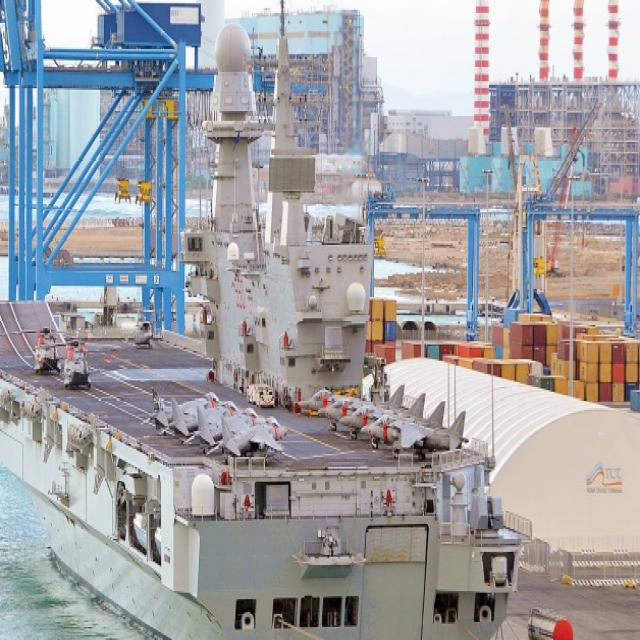Portanaves: (1, 6, 527, 640)
